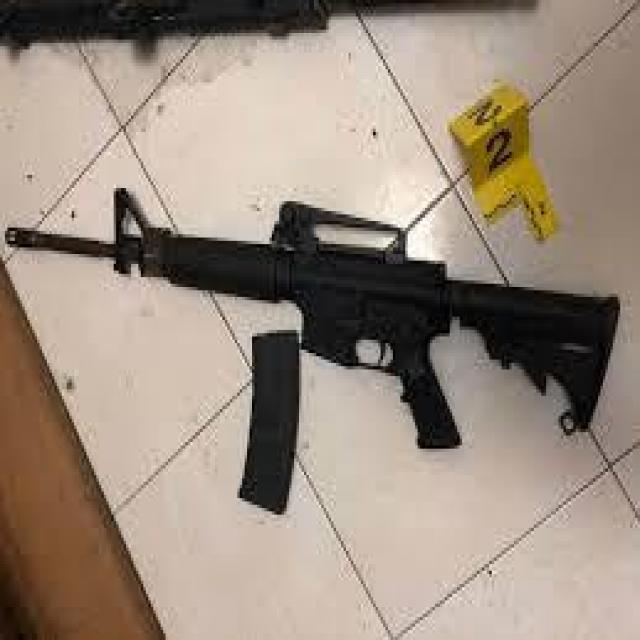weapon: (4, 186, 624, 454)
